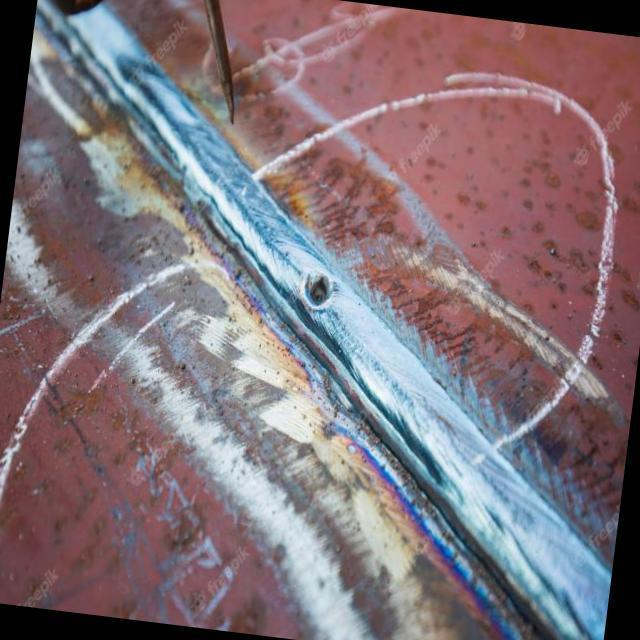defect: (302, 270, 336, 311)
